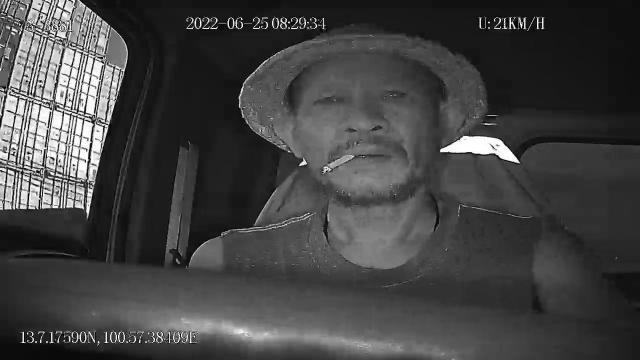SafeDriving: (376, 82, 414, 106)
Smoking: (323, 152, 353, 174)
